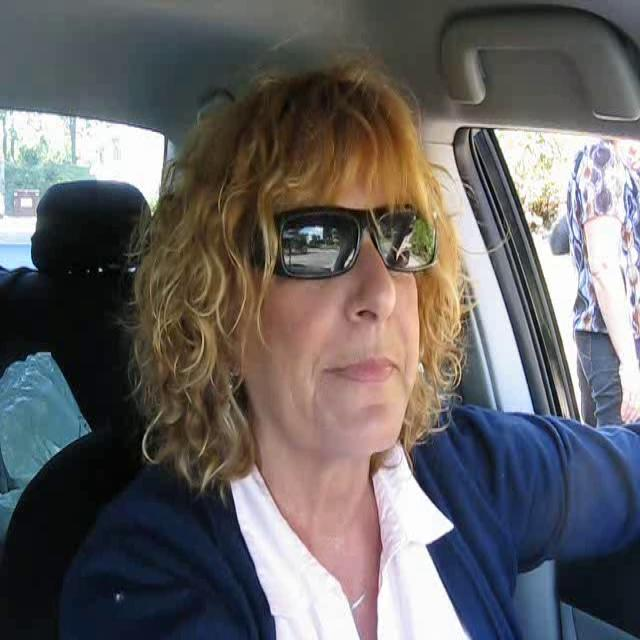close: (320, 352, 406, 385)
